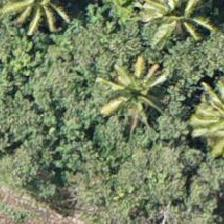coconut_tree: (94, 46, 184, 136), (129, 0, 219, 56)
